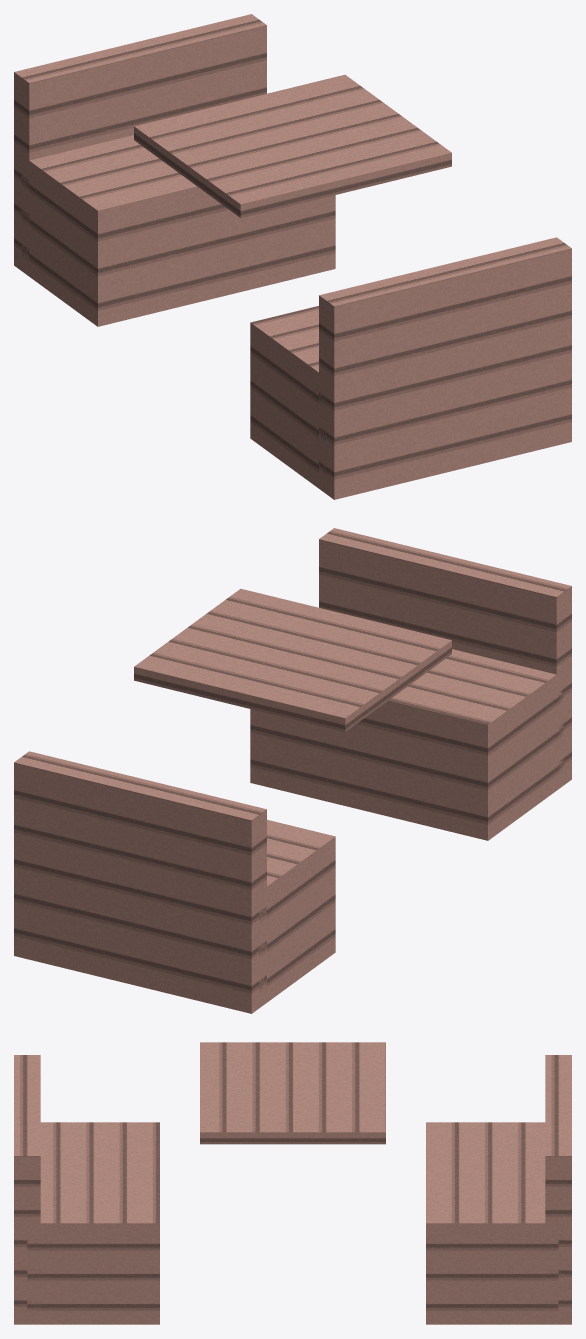
Rendered from booth_seating.glb.
The picture shows the model from 3 angles, top to bottom: view 1: azimuth 30°, elevation 25°; view 2: azimuth 150°, elevation 25°; view 3: azimuth 270°, elevation 25°; orthographic projection. The views are drawn at different scales.
Parts seen in each view (by area): view 1: booth_seating-col; view 2: booth_seating-col; view 3: booth_seating-col.
Boxes of the visible parts, x1,y1,x2,y2 form: booth_seating-col: (14,14,571,499); booth_seating-col: (14,528,571,1013); booth_seating-col: (14,1042,571,1324).
Bounding box in the file's own units: 0.9 × 0.775 × 2.1.
1 material, 1 textured.
